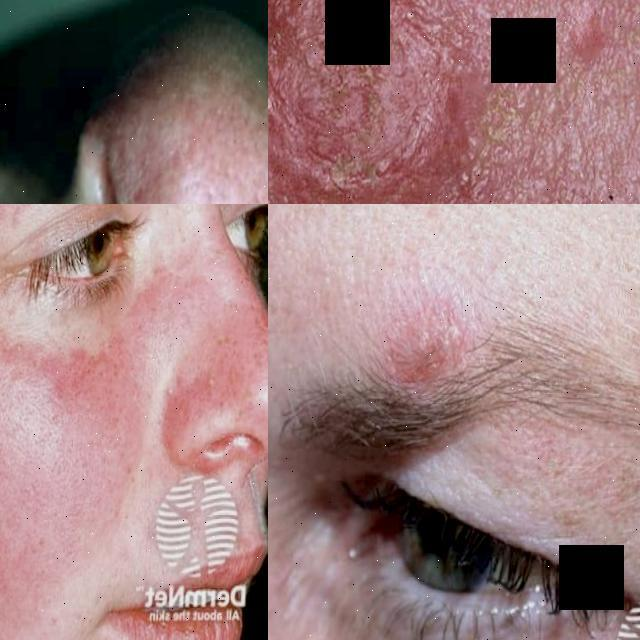lupus-detected: (20, 0, 268, 204), (268, 0, 499, 204), (102, 250, 268, 474), (0, 315, 132, 570), (338, 296, 496, 423), (0, 204, 183, 284), (0, 542, 101, 640)
